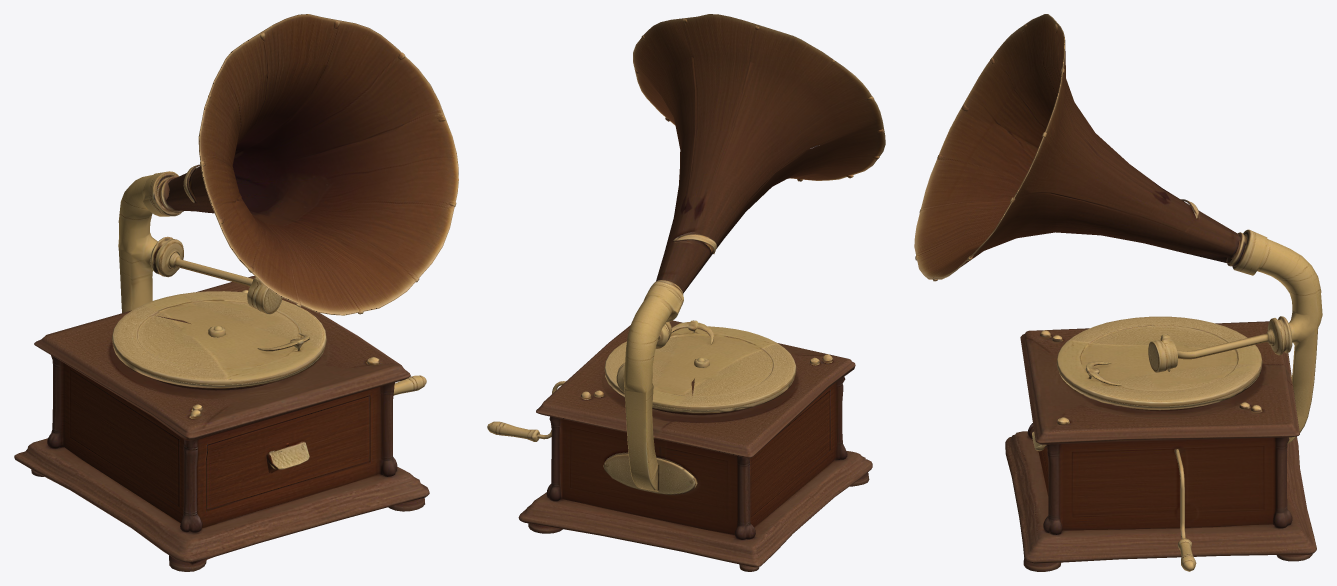
The model's file is gramophone.glb.
3 renders of one model, left to right at view 1: azimuth 30°, elevation 25°; view 2: azimuth 150°, elevation 25°; view 3: azimuth 270°, elevation 25°, orthographic. The views are drawn at different scales.
Parts seen in each view (by area): view 1: e2211ffa_a810_402f_ac6c_ffaa20a3d28a; view 2: e2211ffa_a810_402f_ac6c_ffaa20a3d28a; view 3: e2211ffa_a810_402f_ac6c_ffaa20a3d28a.
Boxes of the visible parts, left/top/right/bottom form: e2211ffa_a810_402f_ac6c_ffaa20a3d28a: left=14, top=14, right=458, bottom=571; e2211ffa_a810_402f_ac6c_ffaa20a3d28a: left=487, top=14, right=885, bottom=571; e2211ffa_a810_402f_ac6c_ffaa20a3d28a: left=914, top=14, right=1322, bottom=571.
Bounding box in the file's own units: 0.7456 × 0.9995 × 0.7671.
Materials: 1 (1 with a texture image).
